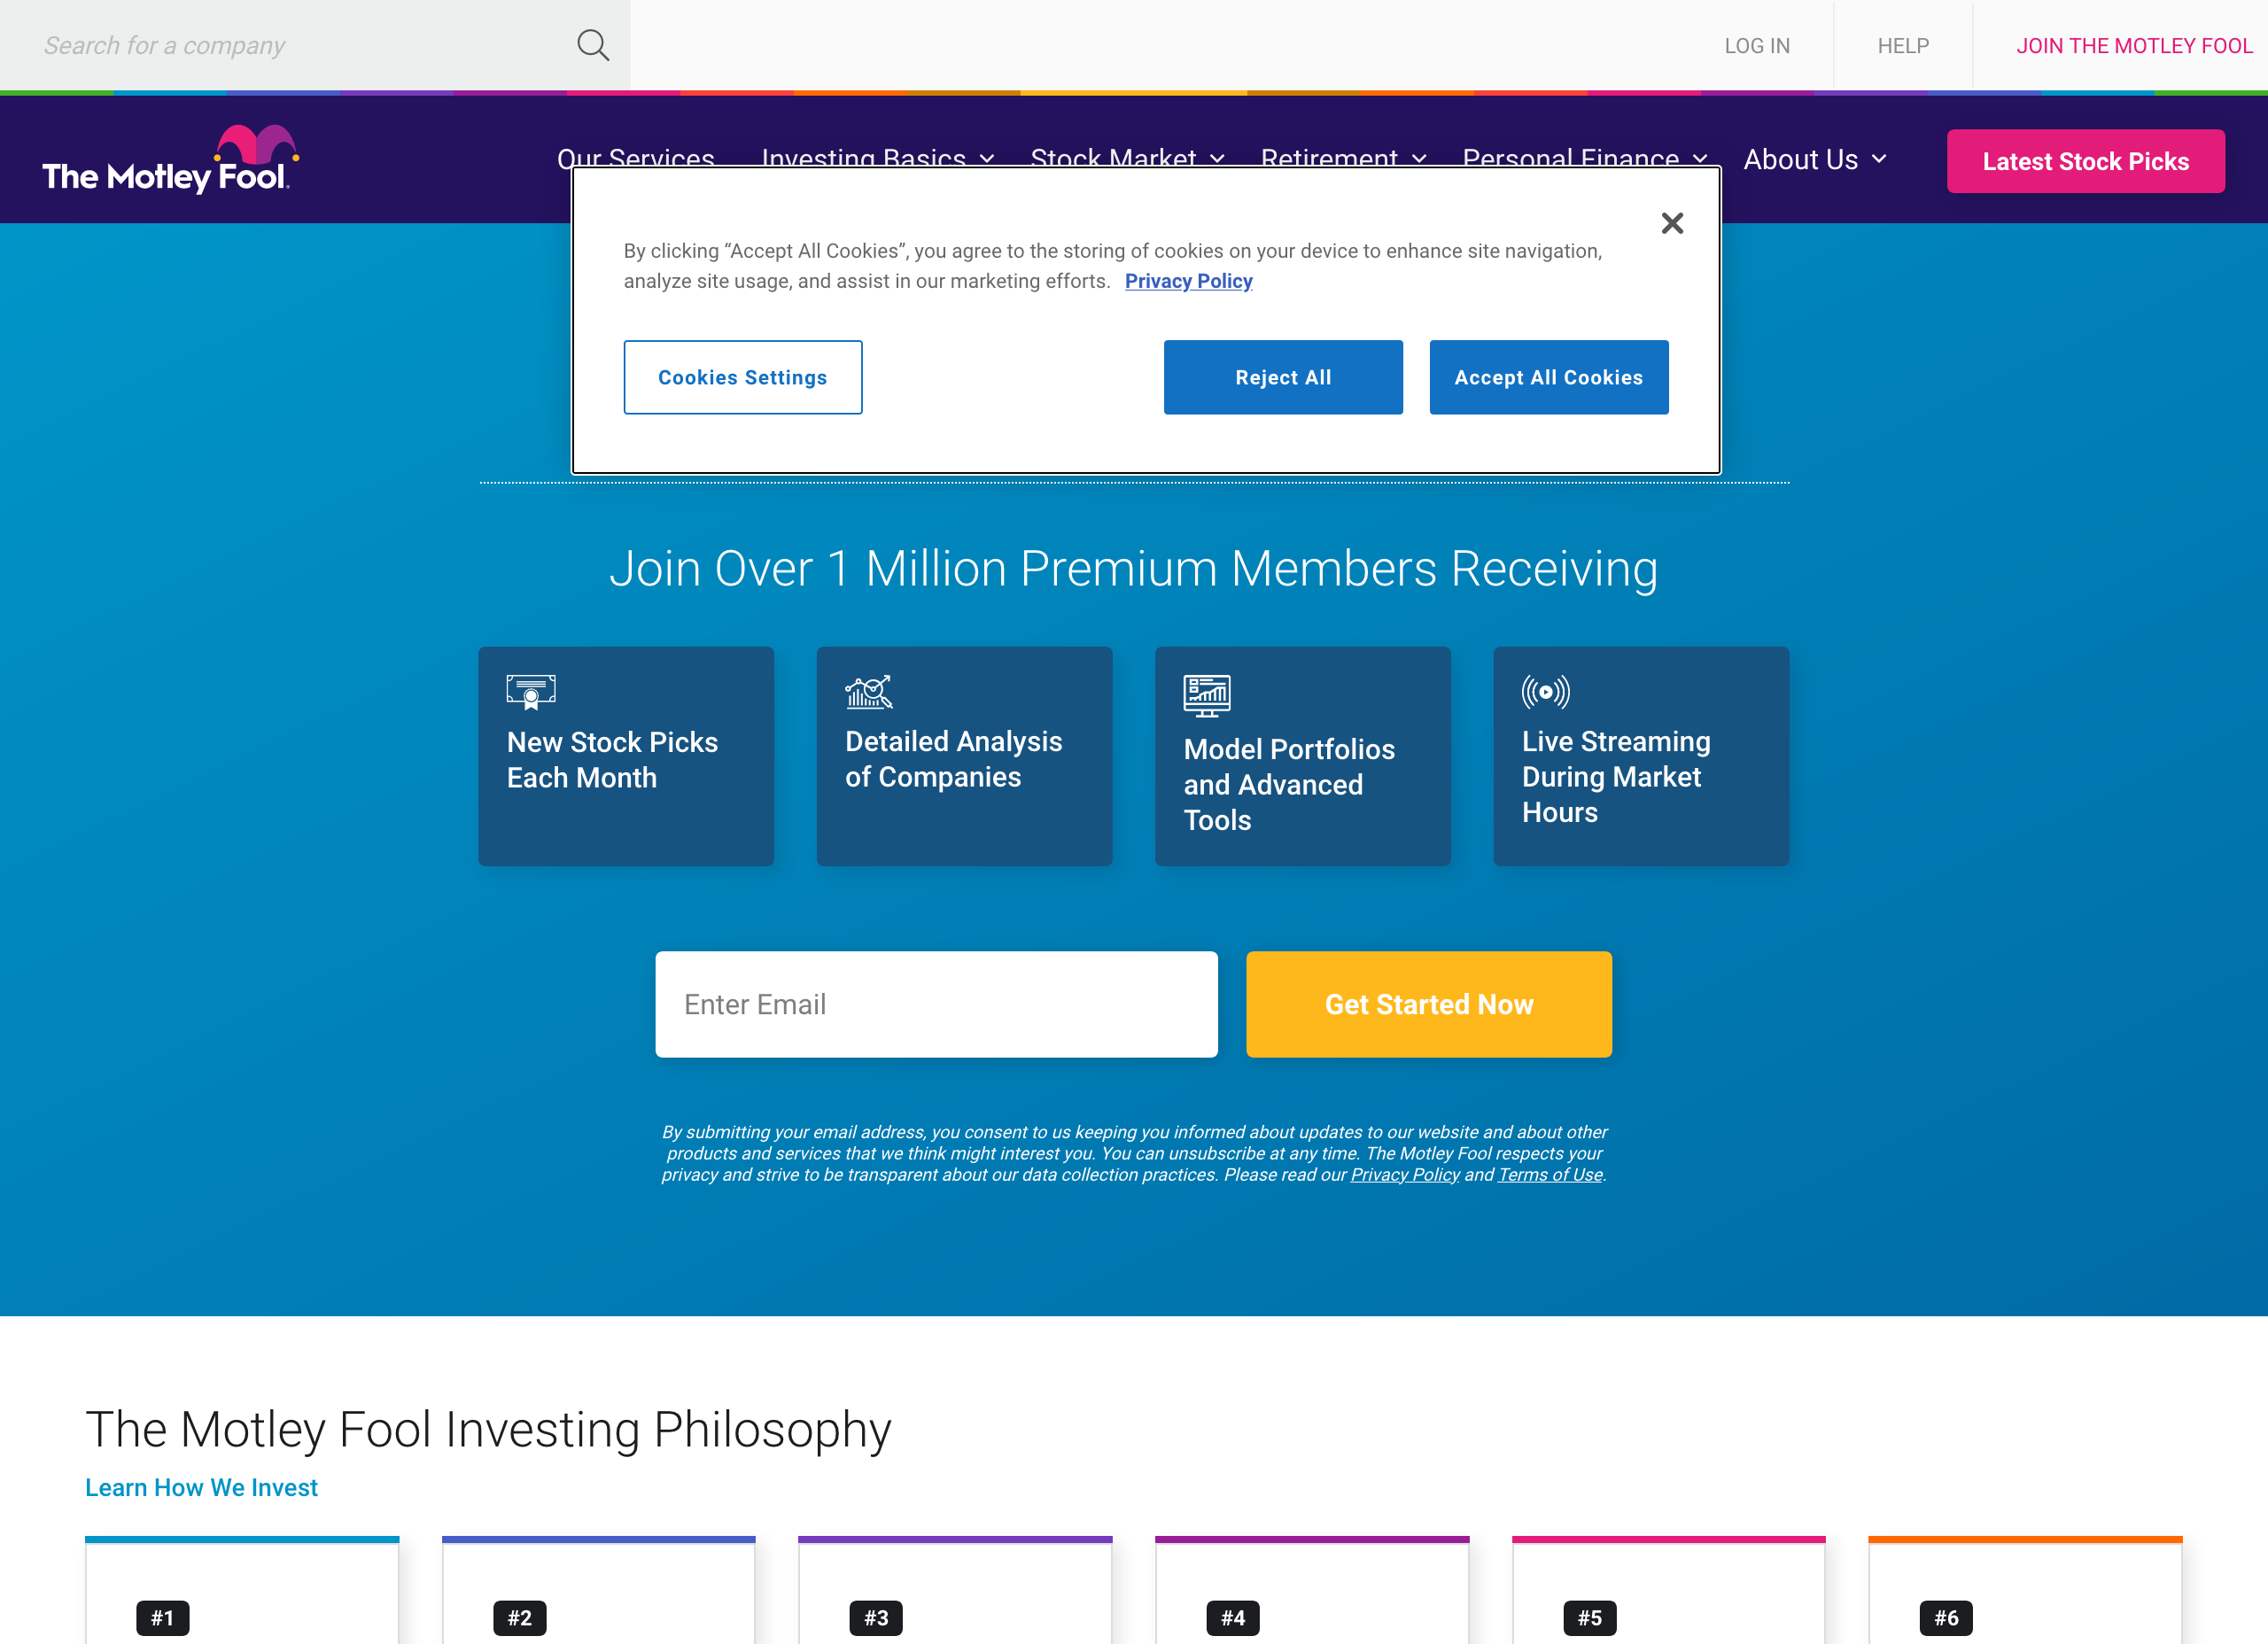Login: (1706, 16, 1812, 72)
